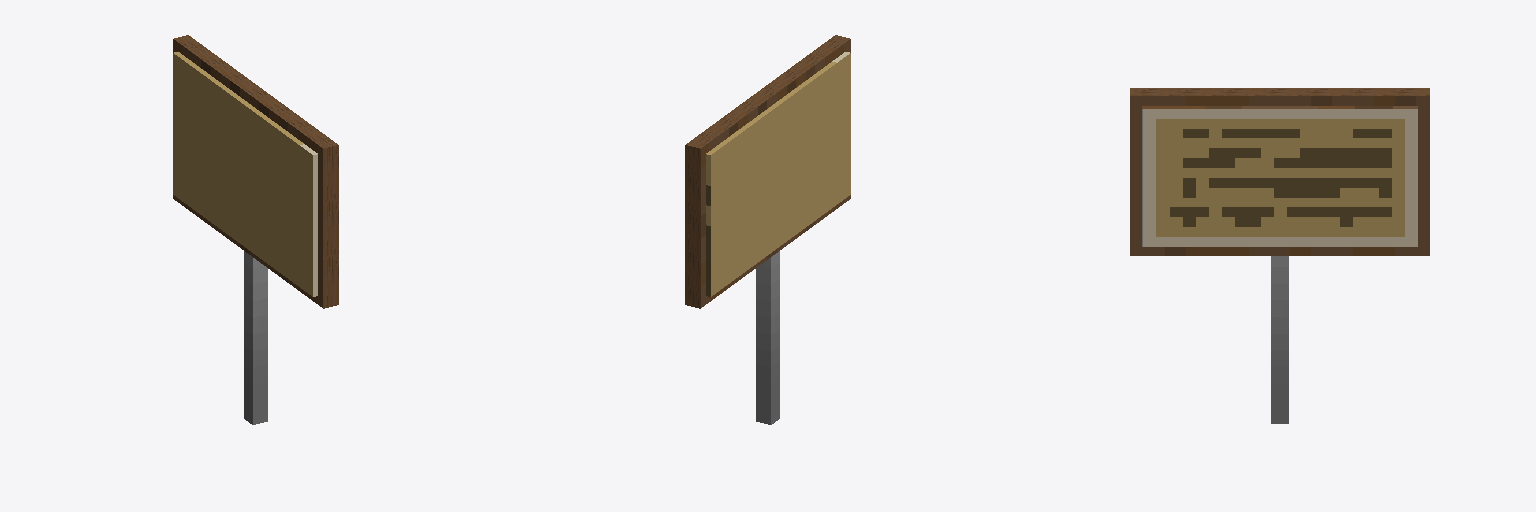
The picture shows the model from 3 angles: view 1: azimuth 30°, elevation 25°; view 2: azimuth 150°, elevation 25°; view 3: azimuth 270°, elevation 25°; orthographic projection.
Visible parts, largest first — view 1: Cube; view 2: Cube; view 3: Cube.
Part boxes in pixels (left/top/right/bottom): Cube: left=173, top=35, right=338, bottom=424; Cube: left=685, top=35, right=850, bottom=424; Cube: left=1130, top=88, right=1429, bottom=423.
Bounding box in the file's own units: 0.335 × 4.1 × 3.4.
Materials: 1 (1 with a texture image).